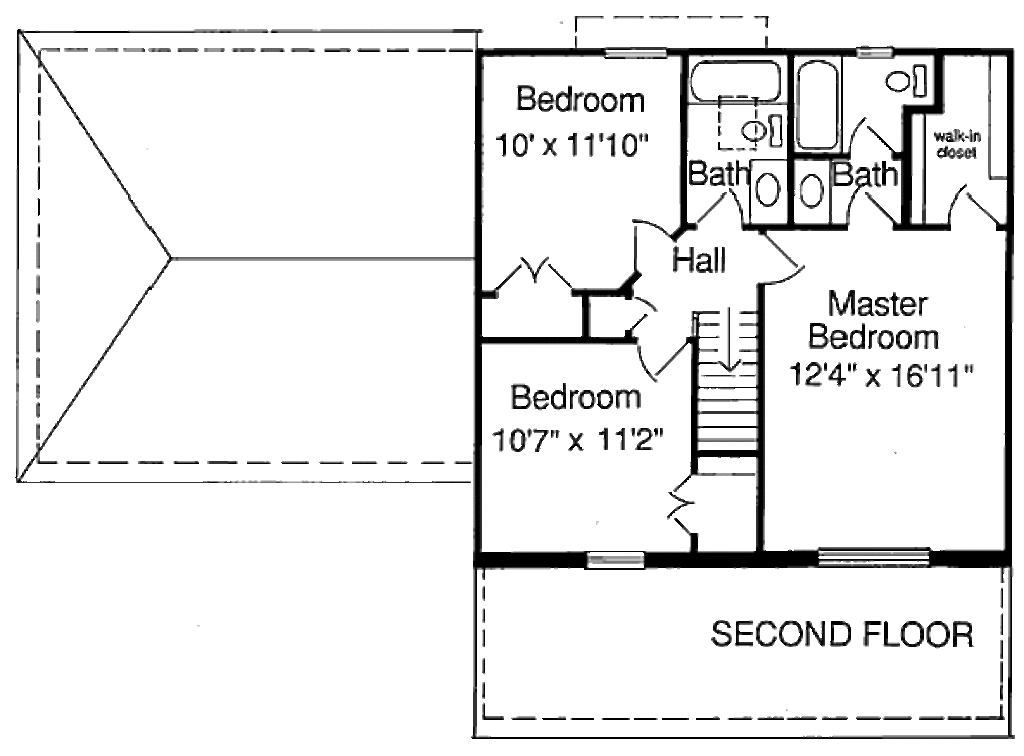door: (493, 253, 576, 297), (619, 216, 674, 279), (946, 179, 1000, 235), (755, 232, 802, 289), (845, 112, 896, 162), (671, 471, 704, 540), (844, 191, 902, 229), (689, 189, 740, 230), (637, 338, 686, 377)
large_sink: (873, 60, 931, 102), (744, 108, 784, 151)
small_sink: (746, 158, 792, 224), (791, 157, 832, 228)
stairs: (691, 305, 766, 479)
tub: (686, 52, 789, 104), (792, 49, 843, 153)
windows: (808, 543, 936, 572), (576, 541, 648, 574)
